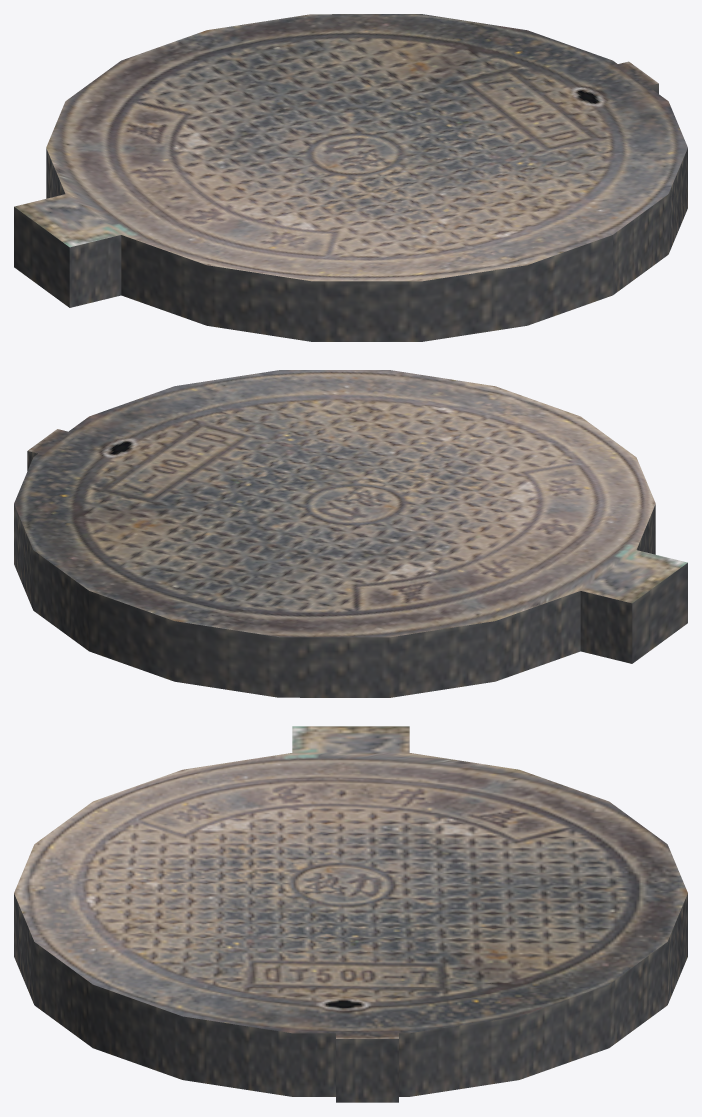
Rendered from jinggai_reli.gltf.
The picture shows the model from 3 angles, top to bottom: view 1: azimuth 30°, elevation 25°; view 2: azimuth 150°, elevation 25°; view 3: azimuth 270°, elevation 25°; orthographic projection. The views are drawn at different scales.
Parts seen in each view (by area): view 1: jinggai06; view 2: jinggai06; view 3: jinggai06.
Boxes of the visible parts, <box> form: jinggai06: <box>14,14,687,341</box>; jinggai06: <box>14,370,687,697</box>; jinggai06: <box>14,726,687,1102</box>.
Size of the model in its own units: 0.5267 by 0.05 by 0.48.
Materials: 1 (1 with a texture image).
